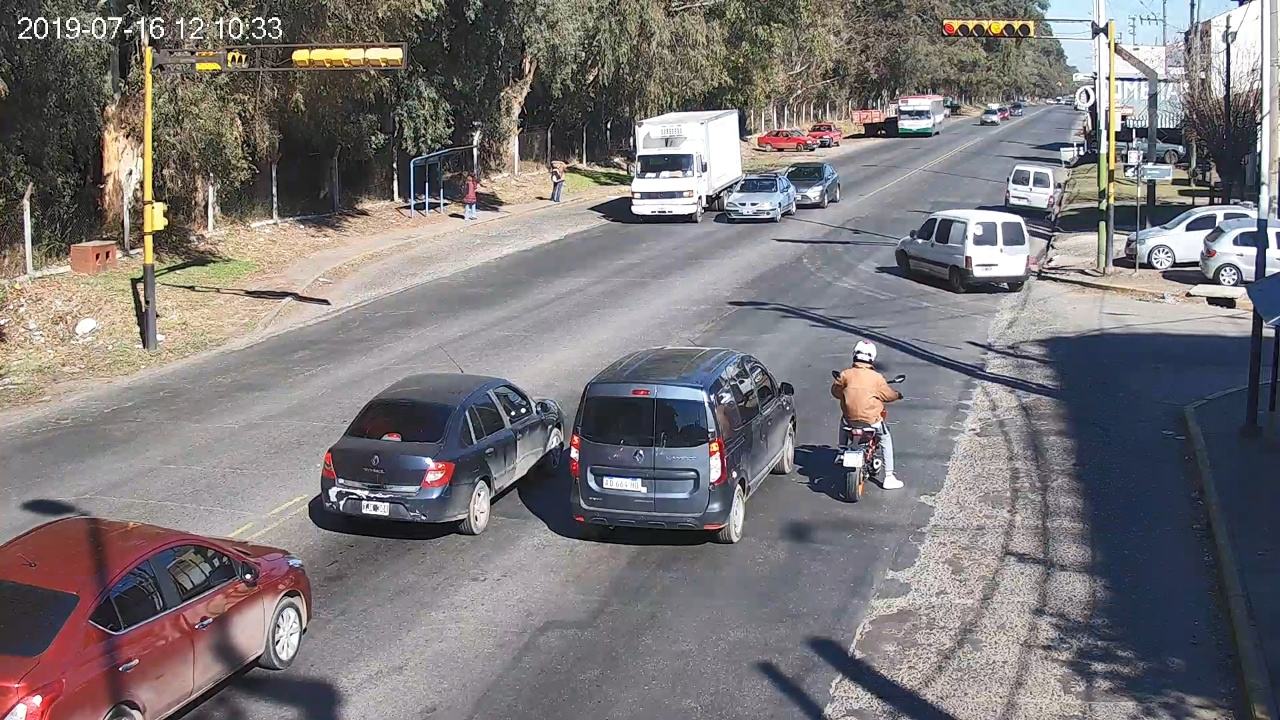car: (571, 347, 797, 545), (346, 372, 564, 536)
front car: (726, 173, 796, 222)
motorcycle: (831, 370, 905, 501)
traffic light: (943, 19, 1034, 37)
